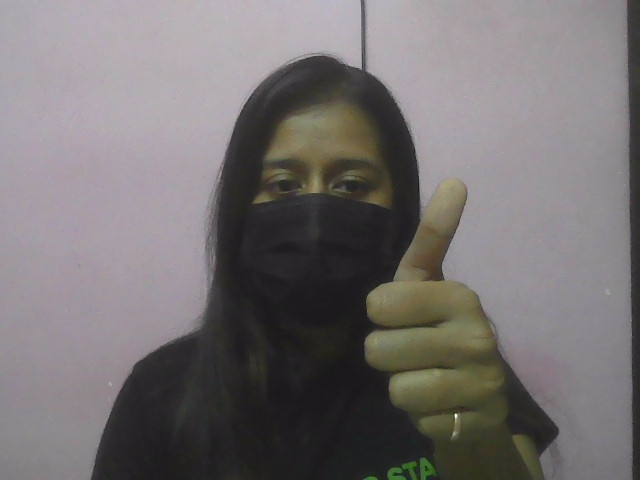Good: (353, 168, 525, 454)
